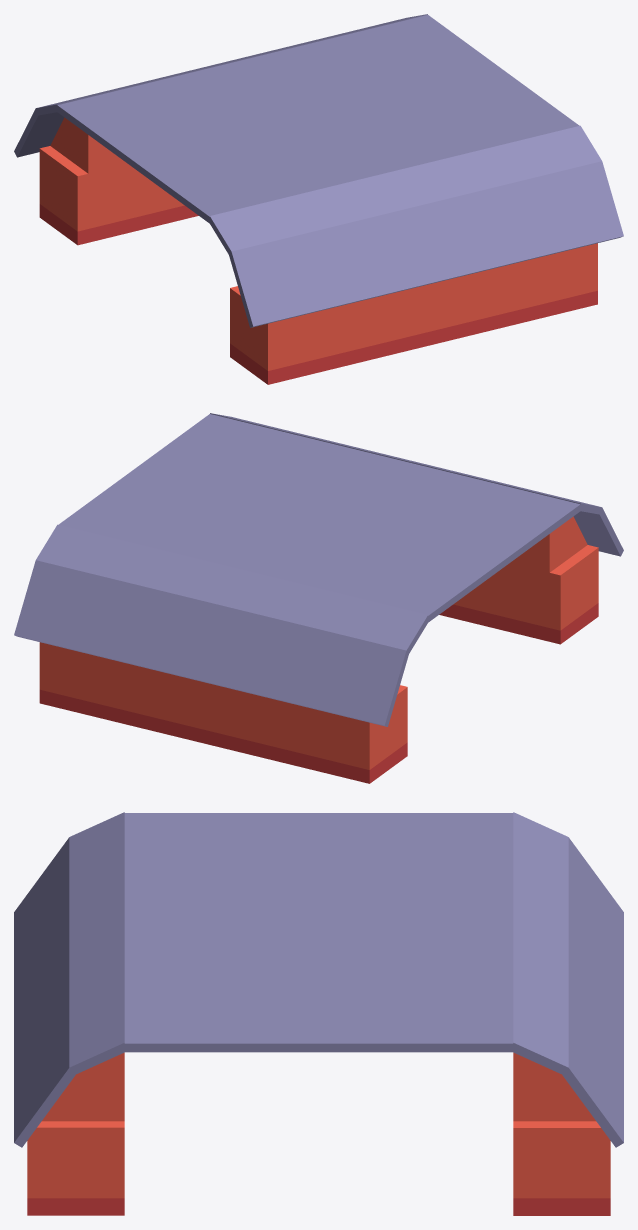
File: barn.fbx
The picture shows the model from 3 angles, top to bottom: view 1: azimuth 30°, elevation 25°; view 2: azimuth 150°, elevation 25°; view 3: azimuth 270°, elevation 25°; orthographic projection. The views are drawn at different scales.
Parts seen in each view (by area): view 1: mergedBlocks; view 2: mergedBlocks; view 3: mergedBlocks.
Boxes of the visible parts, left/top/right/bottom form: mergedBlocks: left=14, top=14, right=623, bottom=384; mergedBlocks: left=14, top=413, right=623, bottom=783; mergedBlocks: left=14, top=812, right=623, bottom=1215.
Size of the model in its own units: 56.16 by 21.12 by 62.77.
